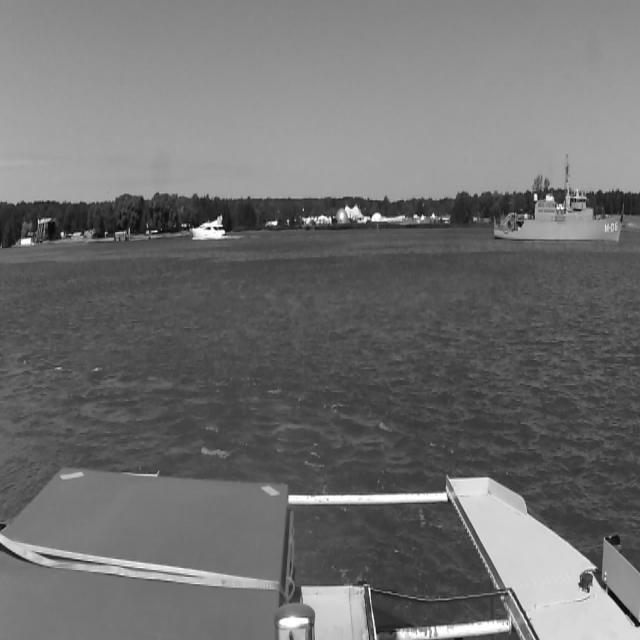ship: (493, 153, 625, 244), (189, 214, 229, 240)
